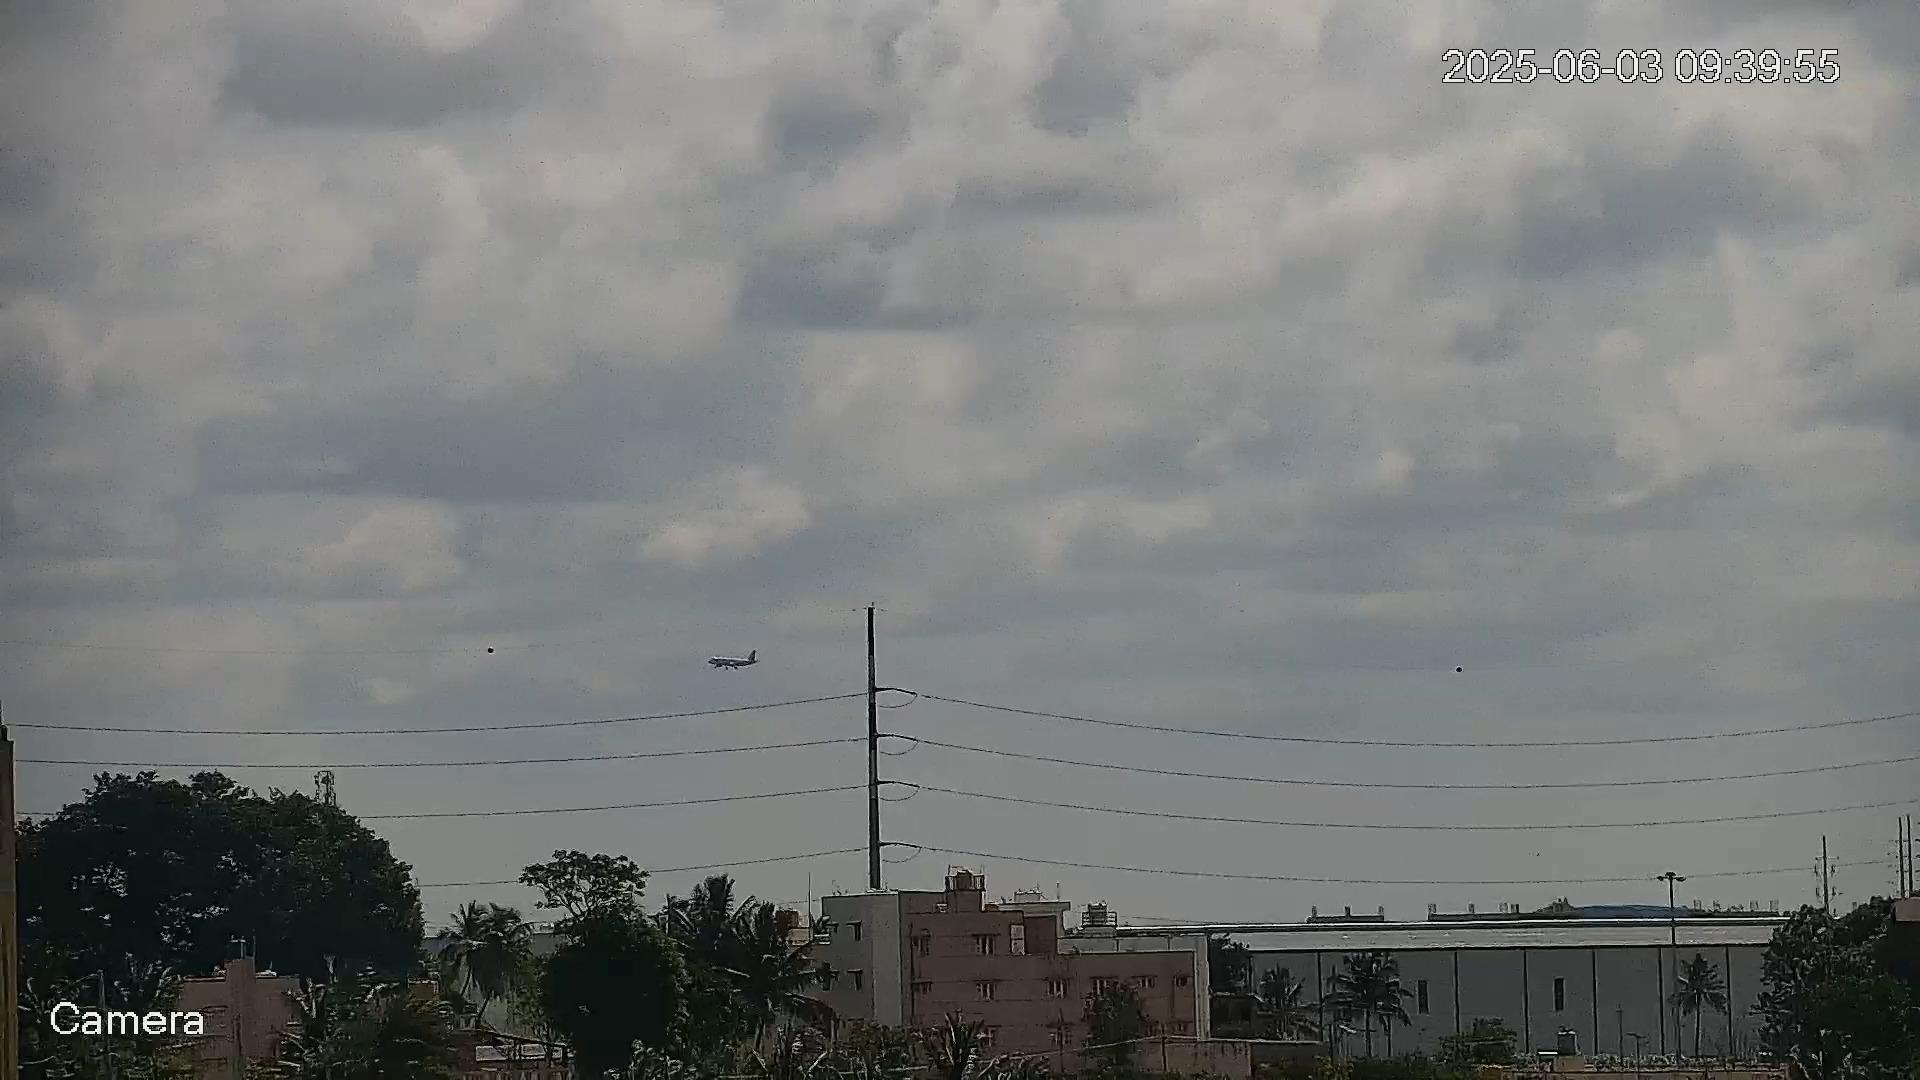Aircraft: (705, 650, 761, 670)
